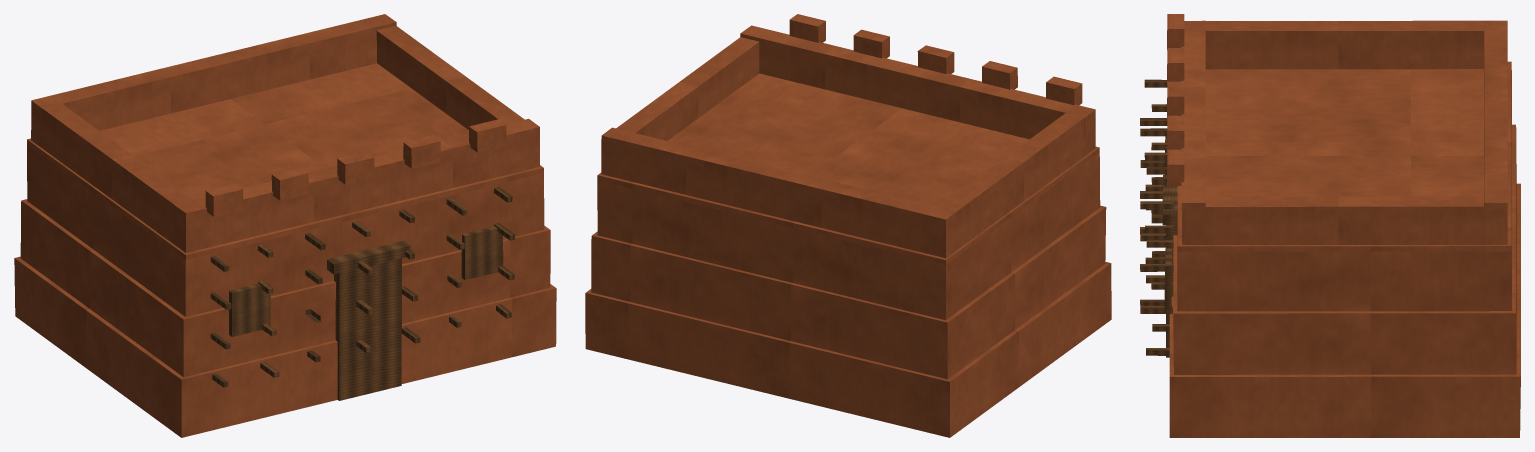
The model's file is SM_HouseBanco.fbx.
The picture shows the model from 3 angles, left to right: view 1: azimuth 30°, elevation 25°; view 2: azimuth 150°, elevation 25°; view 3: azimuth 270°, elevation 25°; orthographic projection. The views are drawn at different scales.
Parts seen in each view (by area): view 1: SM_HouseBanco; view 2: SM_HouseBanco; view 3: SM_HouseBanco.
Boxes of the visible parts, box(x1,y1,x2,y2) form: SM_HouseBanco: box(14, 14, 556, 437); SM_HouseBanco: box(585, 14, 1111, 437); SM_HouseBanco: box(1140, 14, 1520, 437).
Size of the model in its own units: 541 by 323 by 451.
